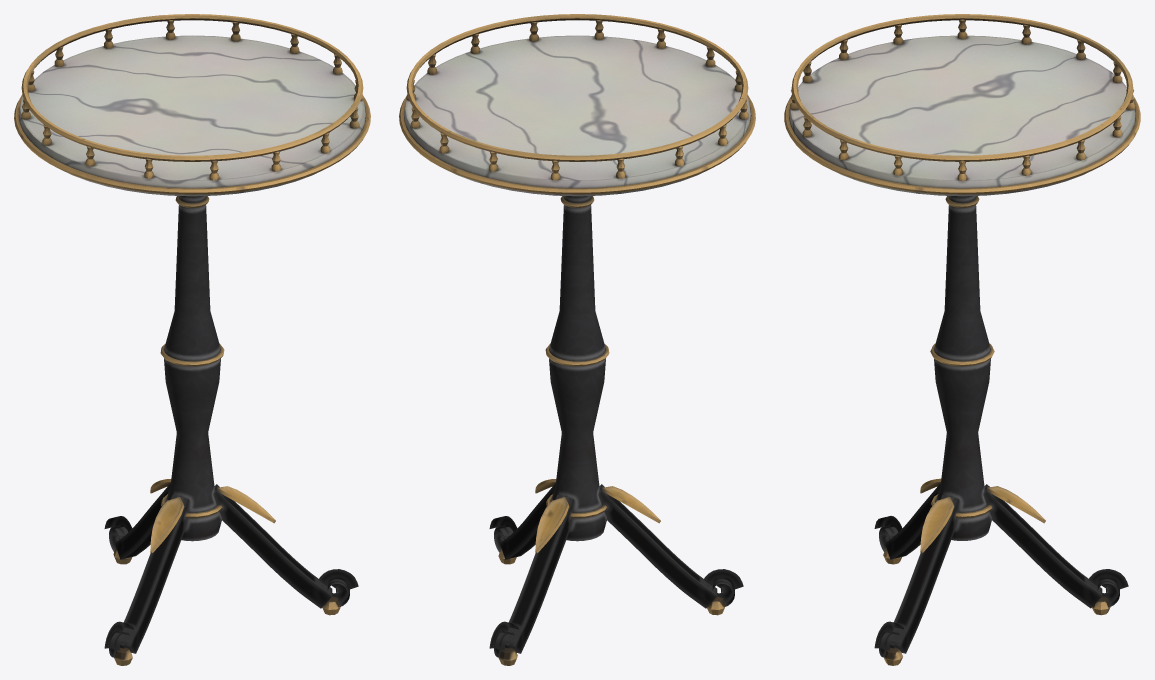
Rendered from TableSide.fbx.
3 renders of one model, left to right at view 1: azimuth 30°, elevation 25°; view 2: azimuth 150°, elevation 25°; view 3: azimuth 270°, elevation 25°, orthographic.
Visible parts, largest first — view 1: TableSide; view 2: TableSide; view 3: TableSide.
Boxes of the visible parts, left/top/right/bottom form: TableSide: left=14, top=14, right=370, bottom=665; TableSide: left=399, top=14, right=755, bottom=665; TableSide: left=784, top=14, right=1140, bottom=665.
Size of the model in its own units: 160 by 261 by 159.
